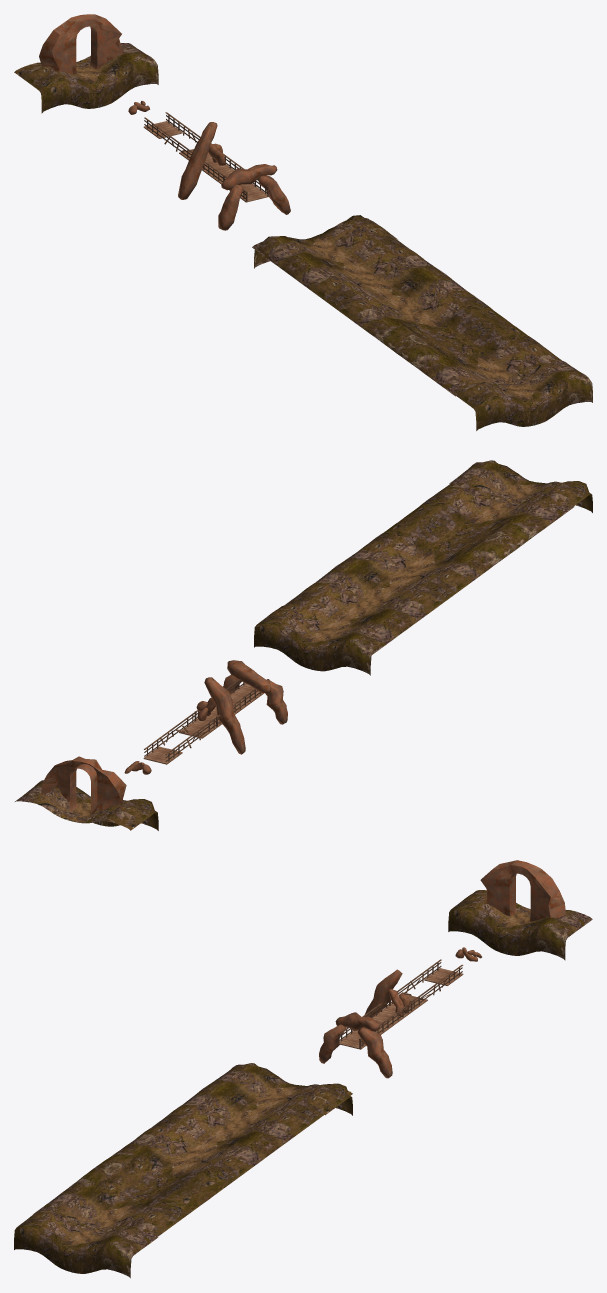
Rendered from Level 2 Bridges_updated.fbx.
3 renders of one model, top to bottom at view 1: azimuth 30°, elevation 25°; view 2: azimuth 150°, elevation 25°; view 3: azimuth 330°, elevation 25°, orthographic.
Parts seen in each view (by area): view 1: ground path, cave entrance, Bridge start002, slide stones, Bridge start, cross slides, Broken Bridge, Bridge; view 2: ground path, cave entrance, Bridge start, Bridge start002, cross slides, slide stones, Broken Bridge, Bridge; view 3: ground path, cave entrance, Bridge start002, Bridge start, slide stones, Broken Bridge, Bridge, cross slides.
Boxes of the visible parts, x1,y1,x2,y2 form: ground path: (252,218,562,396); cave entrance: (14,14,158,113); Bridge start002: (454,361,592,430); slide stones: (218,164,290,230); Bridge start: (254,215,397,268); cross slides: (178,122,225,199); Broken Bridge: (143,112,212,161); Bridge: (202,154,269,202); ground path: (254,482,574,655); cave entrance: (15,756,158,830); Bridge start: (254,605,382,675); Bridge start002: (449,460,592,512); cross slides: (196,677,245,754); slide stones: (223,660,287,724); Broken Bridge: (143,711,218,764); Bridge: (196,679,269,726); ground path: (33,1064,352,1236); cave entrance: (448,860,592,960); Bridge start002: (14,1209,158,1278); Bridge start: (224,1063,352,1115); slide stones: (319,1012,392,1078); Broken Bridge: (389,959,463,1011); Bridge: (337,997,411,1049); cross slides: (365,969,410,1017).
Size of the model in its own units: 20.27 by 13.34 by 139.
